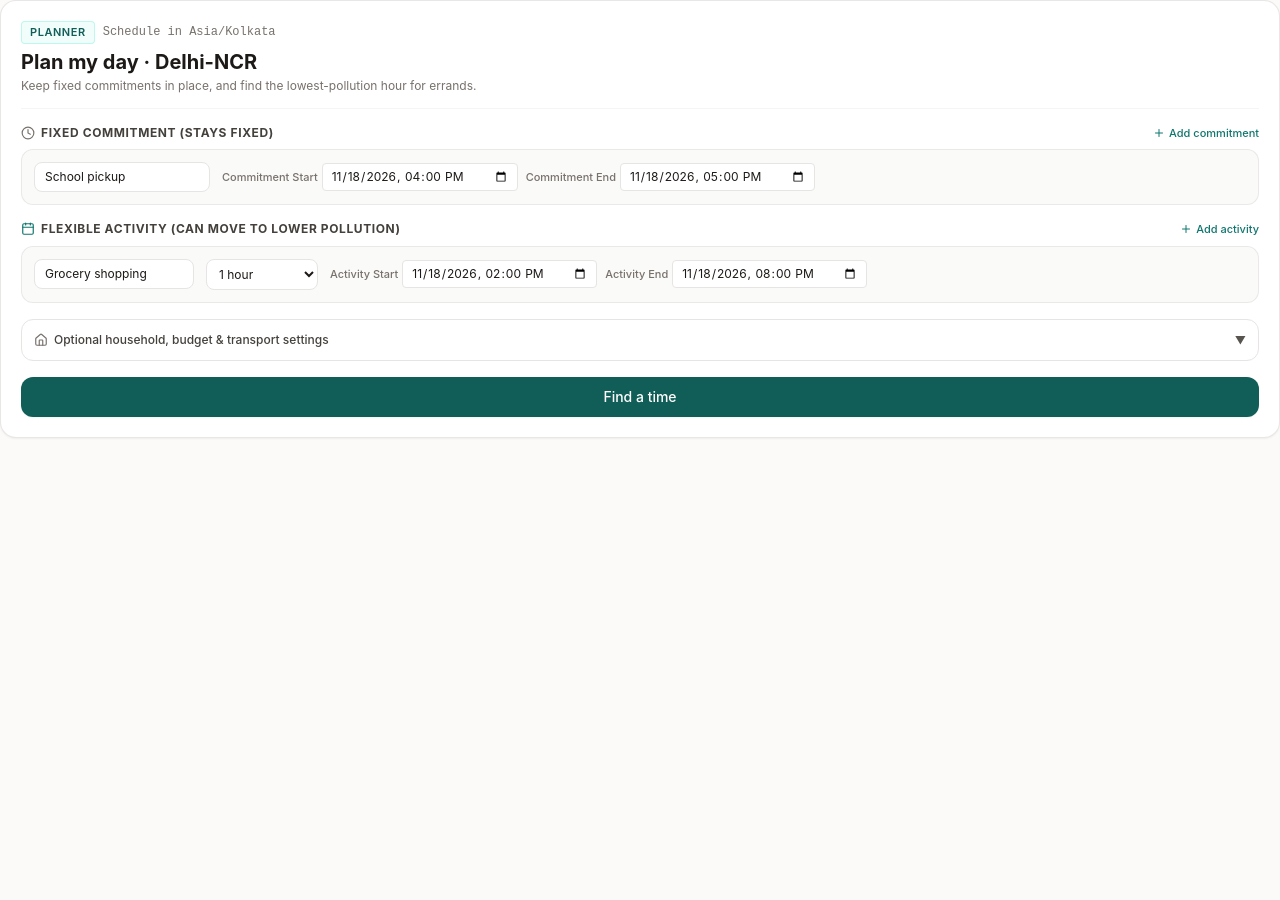
Test: shows separate start-hour label when multi-hour duration mean differs from start hour, and states plainly when earliest slot adds no benefit
Select "2 hours" in the dropdown named "Duration": point(262, 274) 206,258 -> 318,290
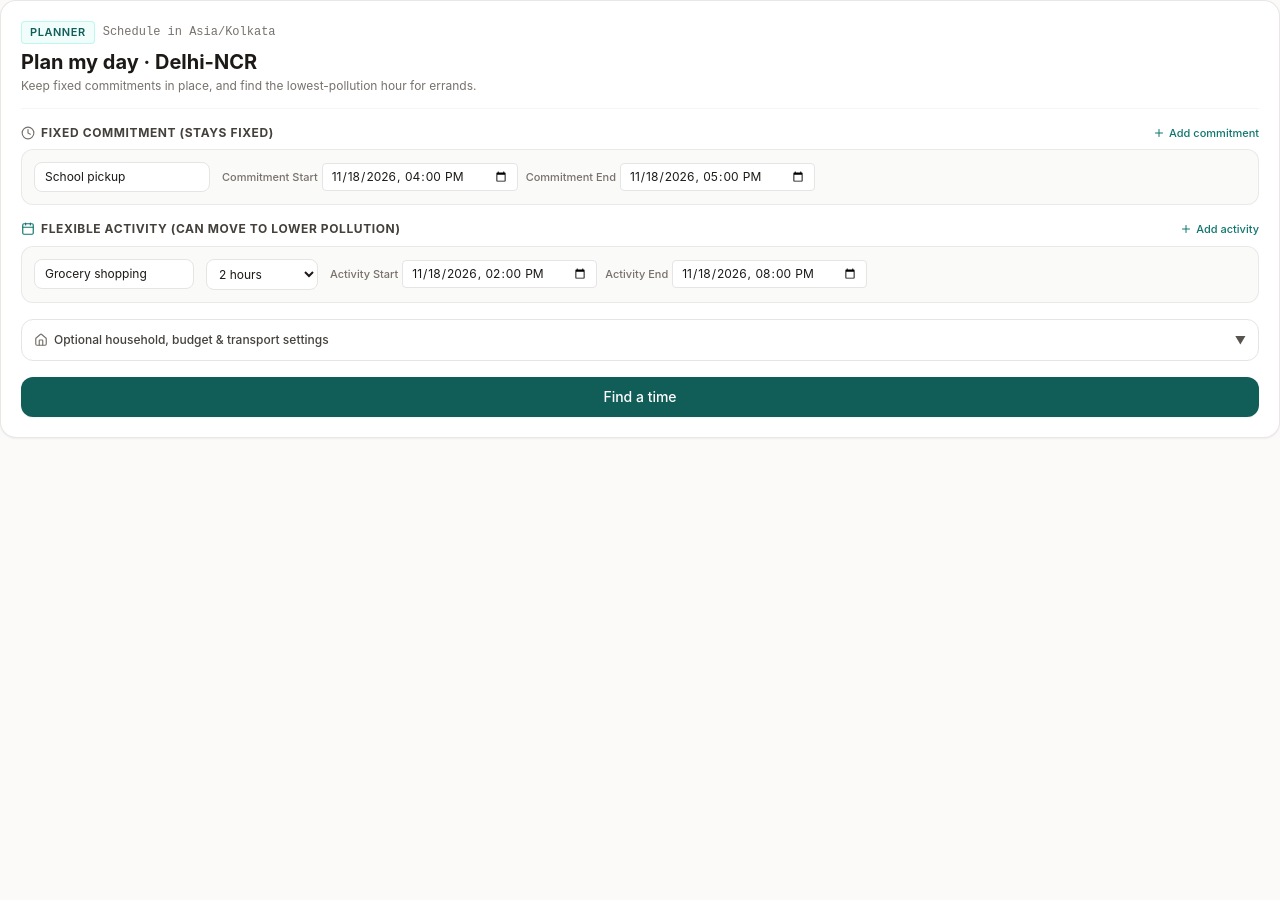
Replace the text in the field labelled "Commitment start" with "2026-11-18T15:00": point(420, 177) 322,163 -> 518,191
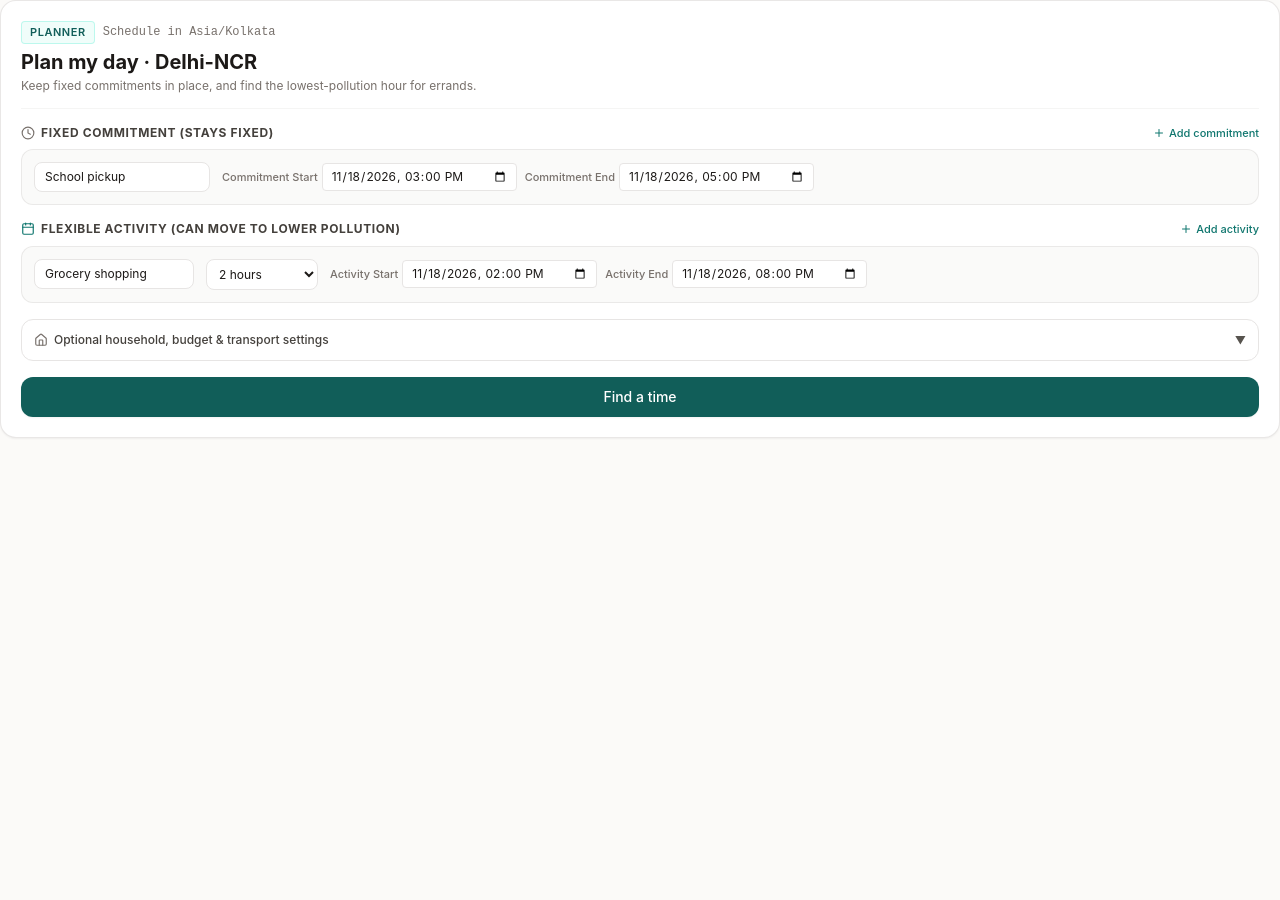
Replace the text in the field labelled "Commitment end" with "2026-11-18T15:30": point(716, 177) 619,163 -> 814,191
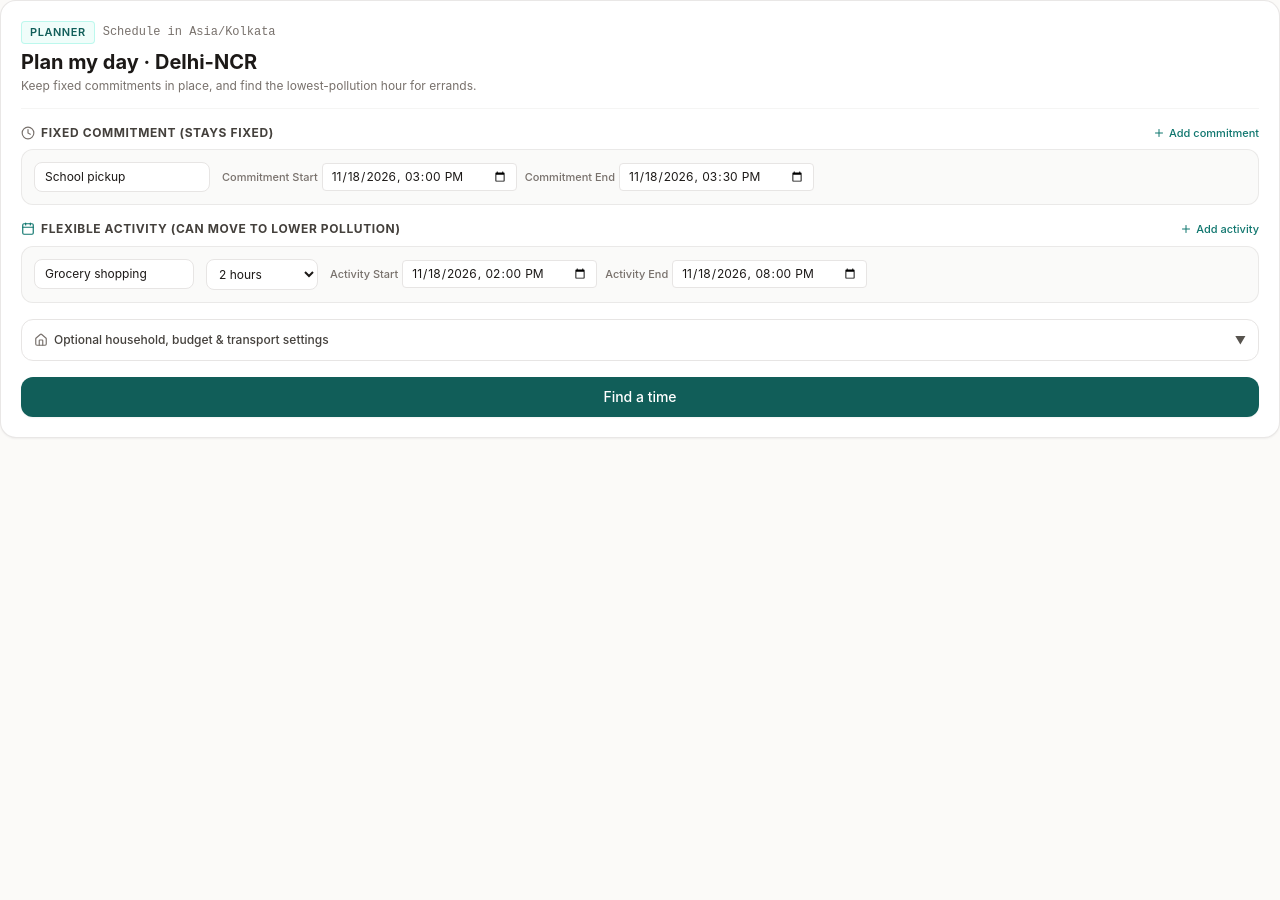
Replace the text in the field labelled "Activity start" with "2026-11-18T18:00": point(500, 274) 402,260 -> 597,288
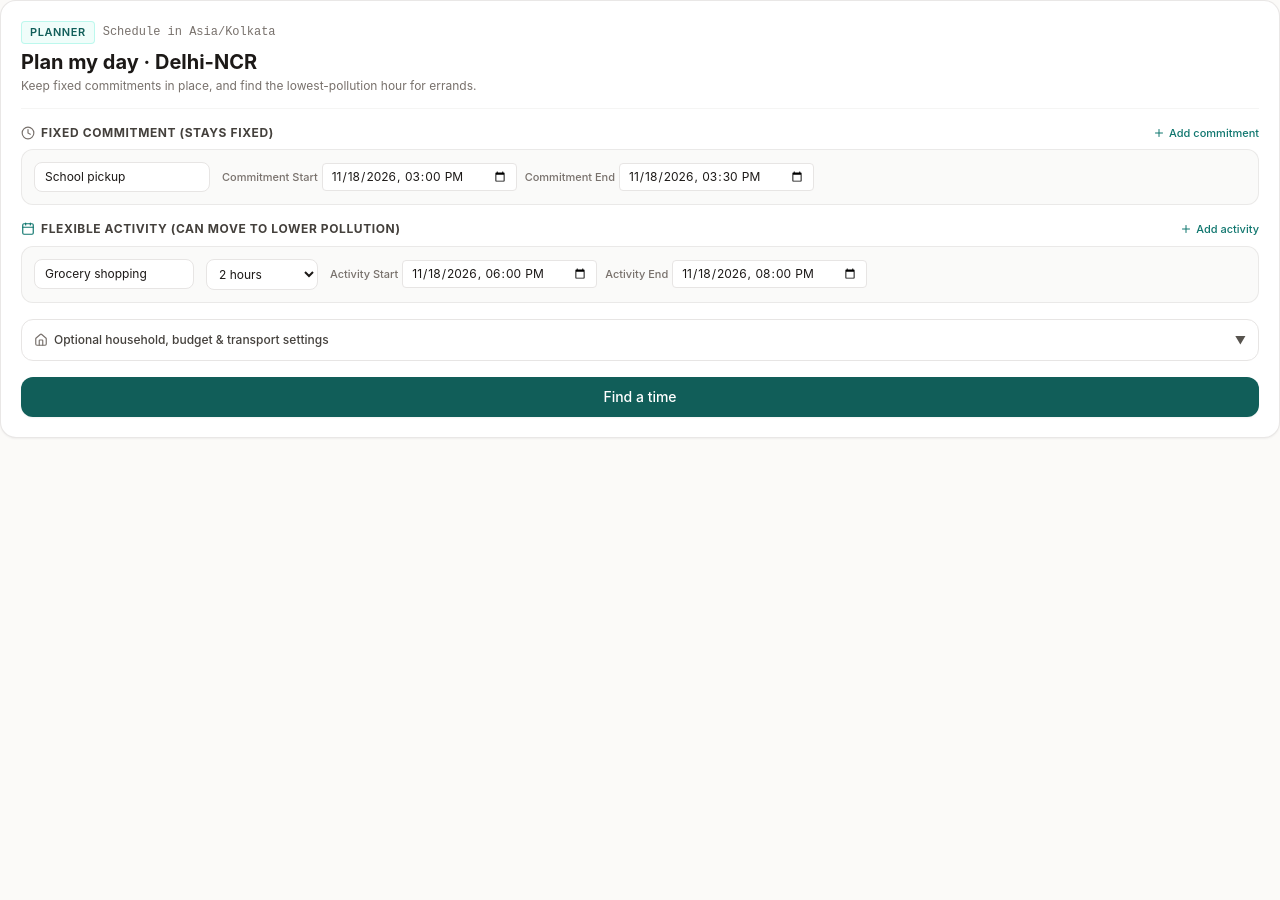
Replace the text in the field labelled "Activity end" with "2026-11-18T21:00": point(770, 274) 672,260 -> 867,288
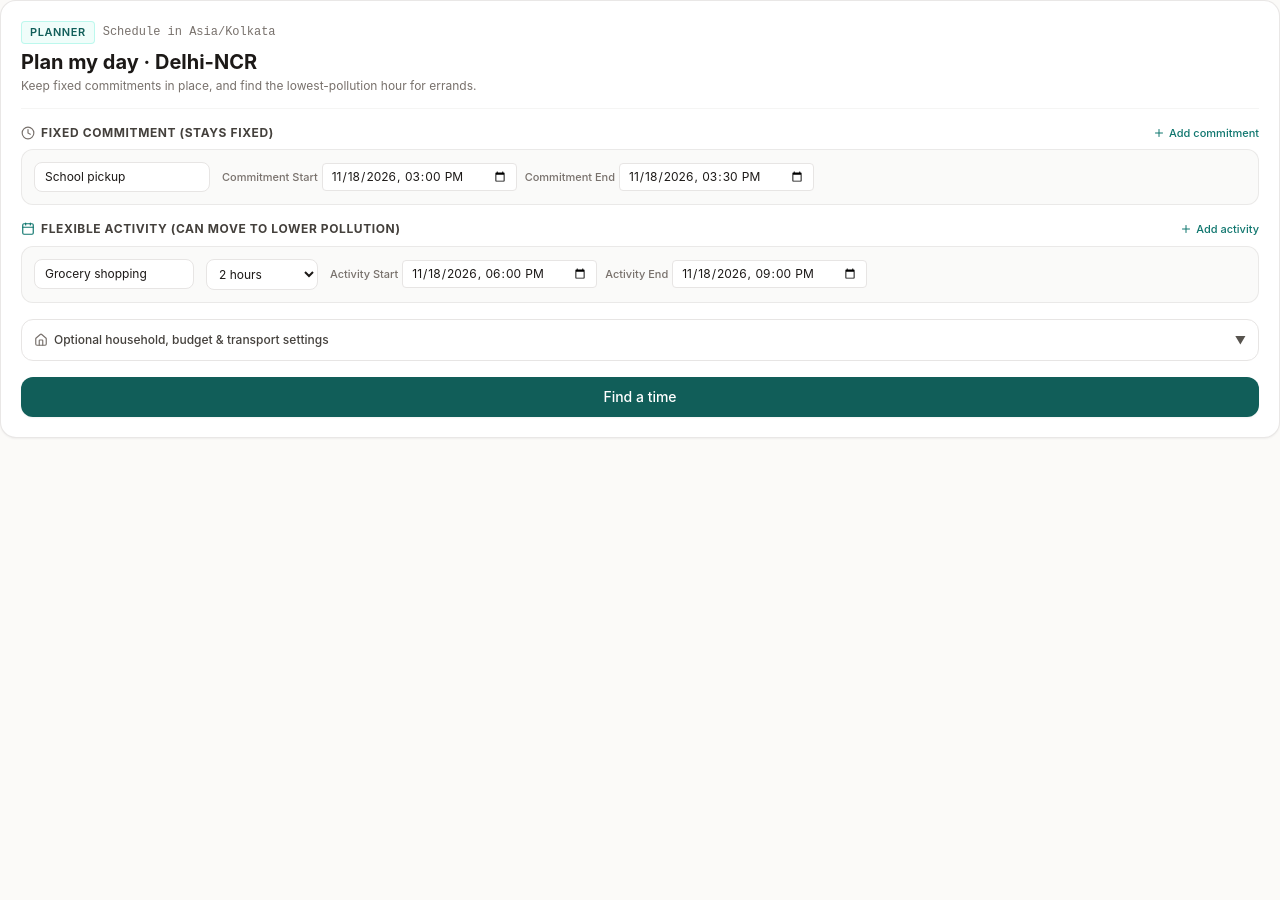
Click the button "Find a time": point(640, 396) 21,376 -> 1259,416
(page scrolled)
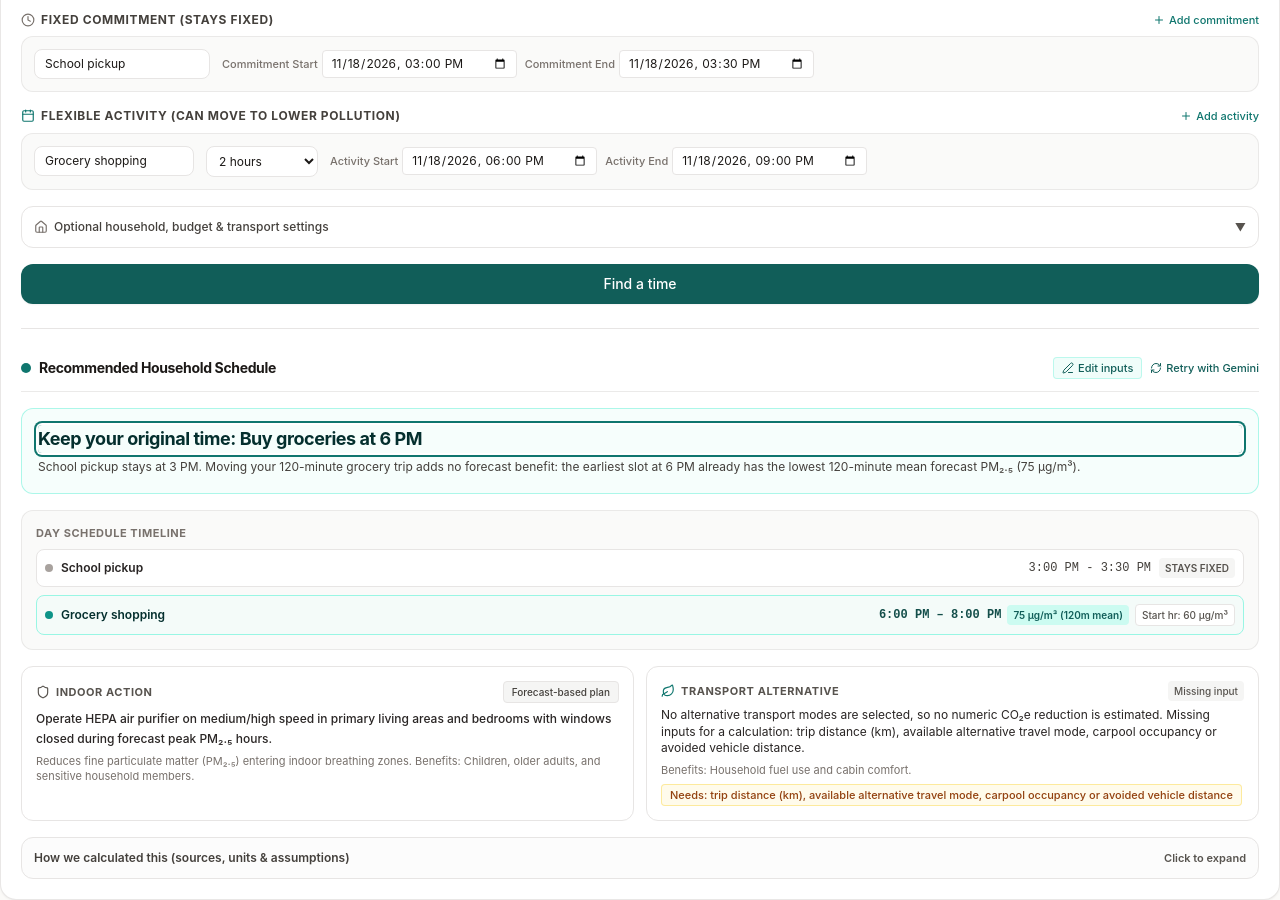
Expected: the text "Forecast-based plan" is shown, 503,681 -> 619,703
Expected: the heading "Keep your original time: Buy groceries at 6 PM" is shown, 38,425 -> 1242,453
Expected: the text "adds no forecast benefit" is shown, 38,459 -> 1080,474
